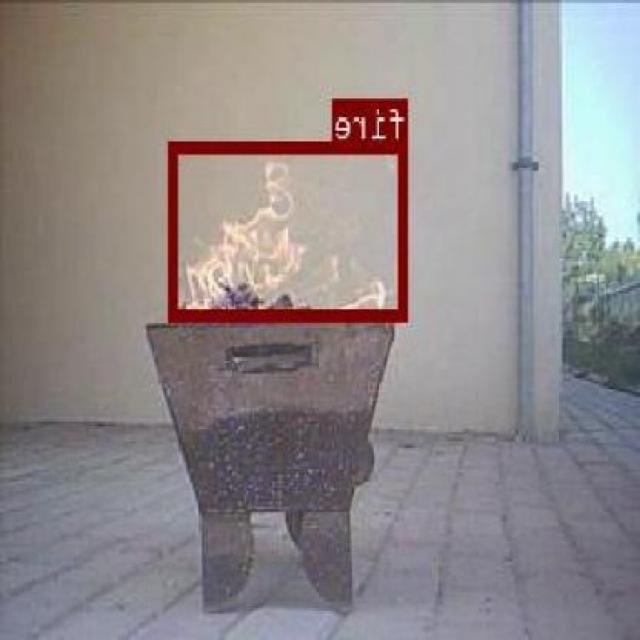Fire: (172, 140, 408, 318)
